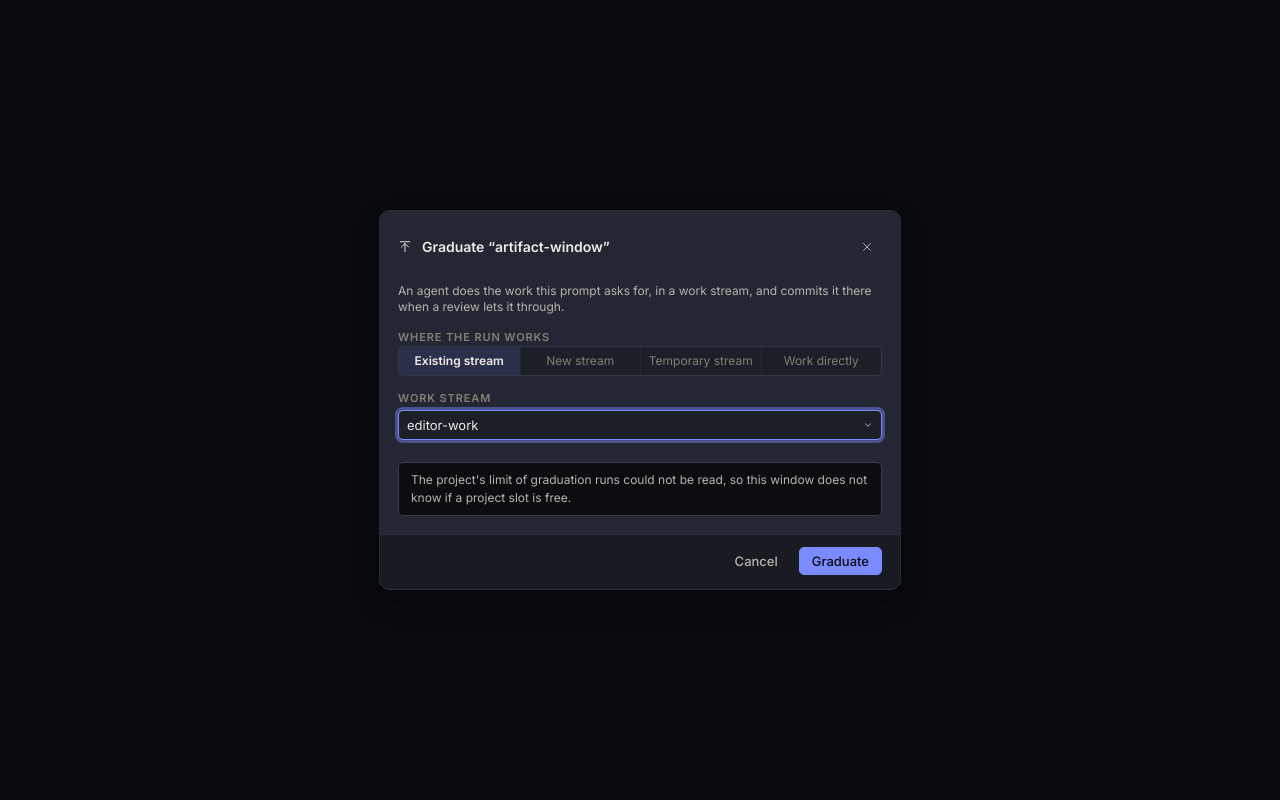
Test case: a refused start › GSD-FR-JYRP: each typed refusal is read in words, and the window stays open
The width and height of the screenshot is (1280, 800).
Expected: the dropdown labelled "Work stream" is shown, left=398, top=410, right=882, bottom=440
Click the button with test id "graduation-start-confirm": click(840, 561) left=799, top=547, right=882, bottom=575
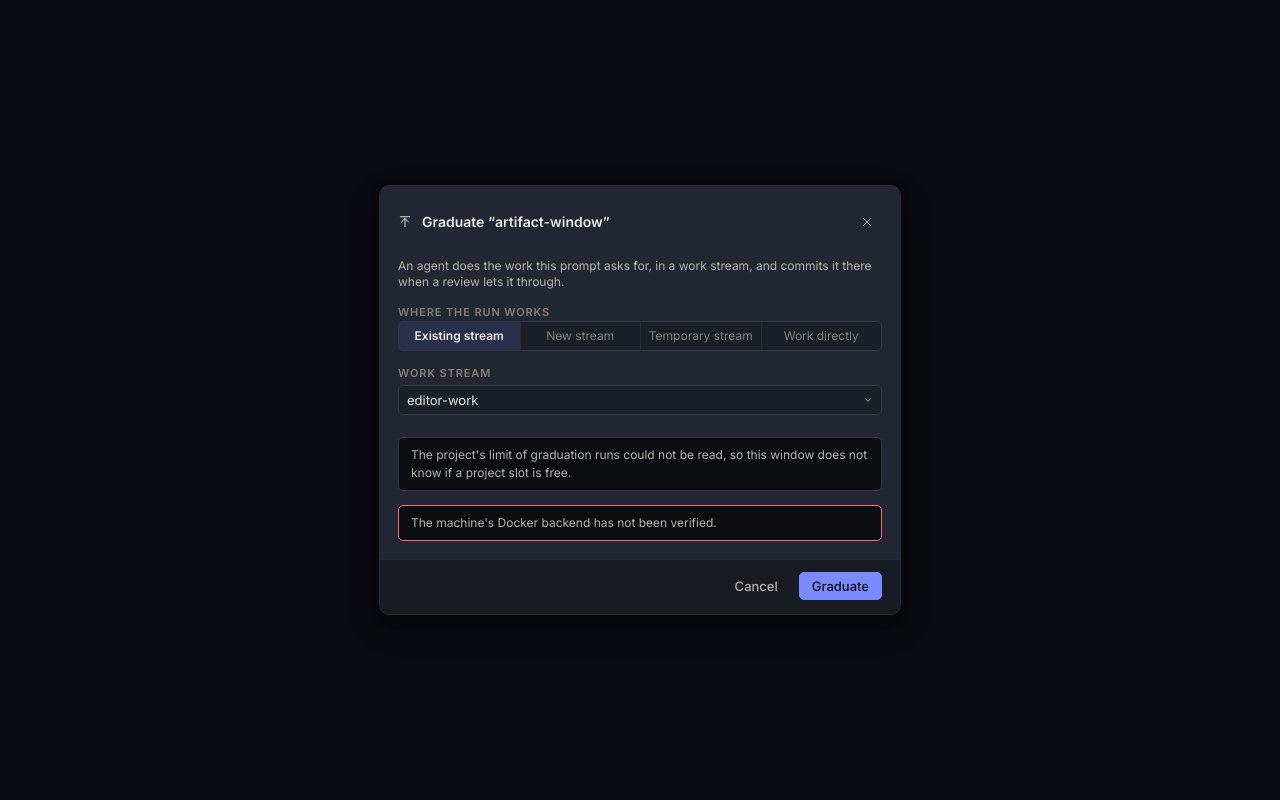
Expected: the button with test id "graduation-start-confirm" is enabled, left=799, top=572, right=882, bottom=600
Now the message with test id "graduation-start-error" reads "The machine's Docker backend has not been verified.", box left=411, top=515, right=717, bottom=530
